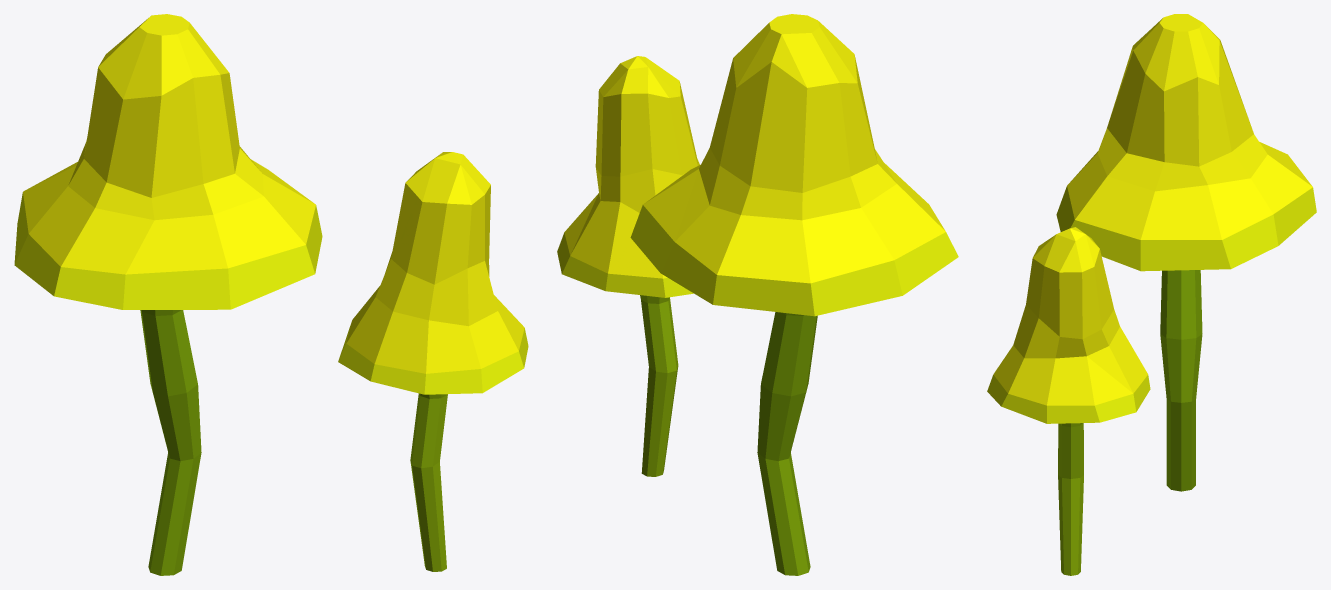
The model's file is SM_Mushroom_03.glb.
3 views of the same model, side by side, from view 1: azimuth 30°, elevation 25°; view 2: azimuth 150°, elevation 25°; view 3: azimuth 270°, elevation 25° (orthographic). The views are drawn at different scales.
Visible parts, largest first — view 1: SM_Mushroom_03; view 2: SM_Mushroom_03; view 3: SM_Mushroom_03.
Boxes of the visible parts, x1=… form: SM_Mushroom_03: x1=14, y1=14, x2=528, y2=575; SM_Mushroom_03: x1=557, y1=14, x2=958, y2=575; SM_Mushroom_03: x1=987, y1=14, x2=1316, y2=575.
Bounding box in the file's own units: 0.1553 × 0.1915 × 0.1235.
Materials: 1 (1 with a texture image).
